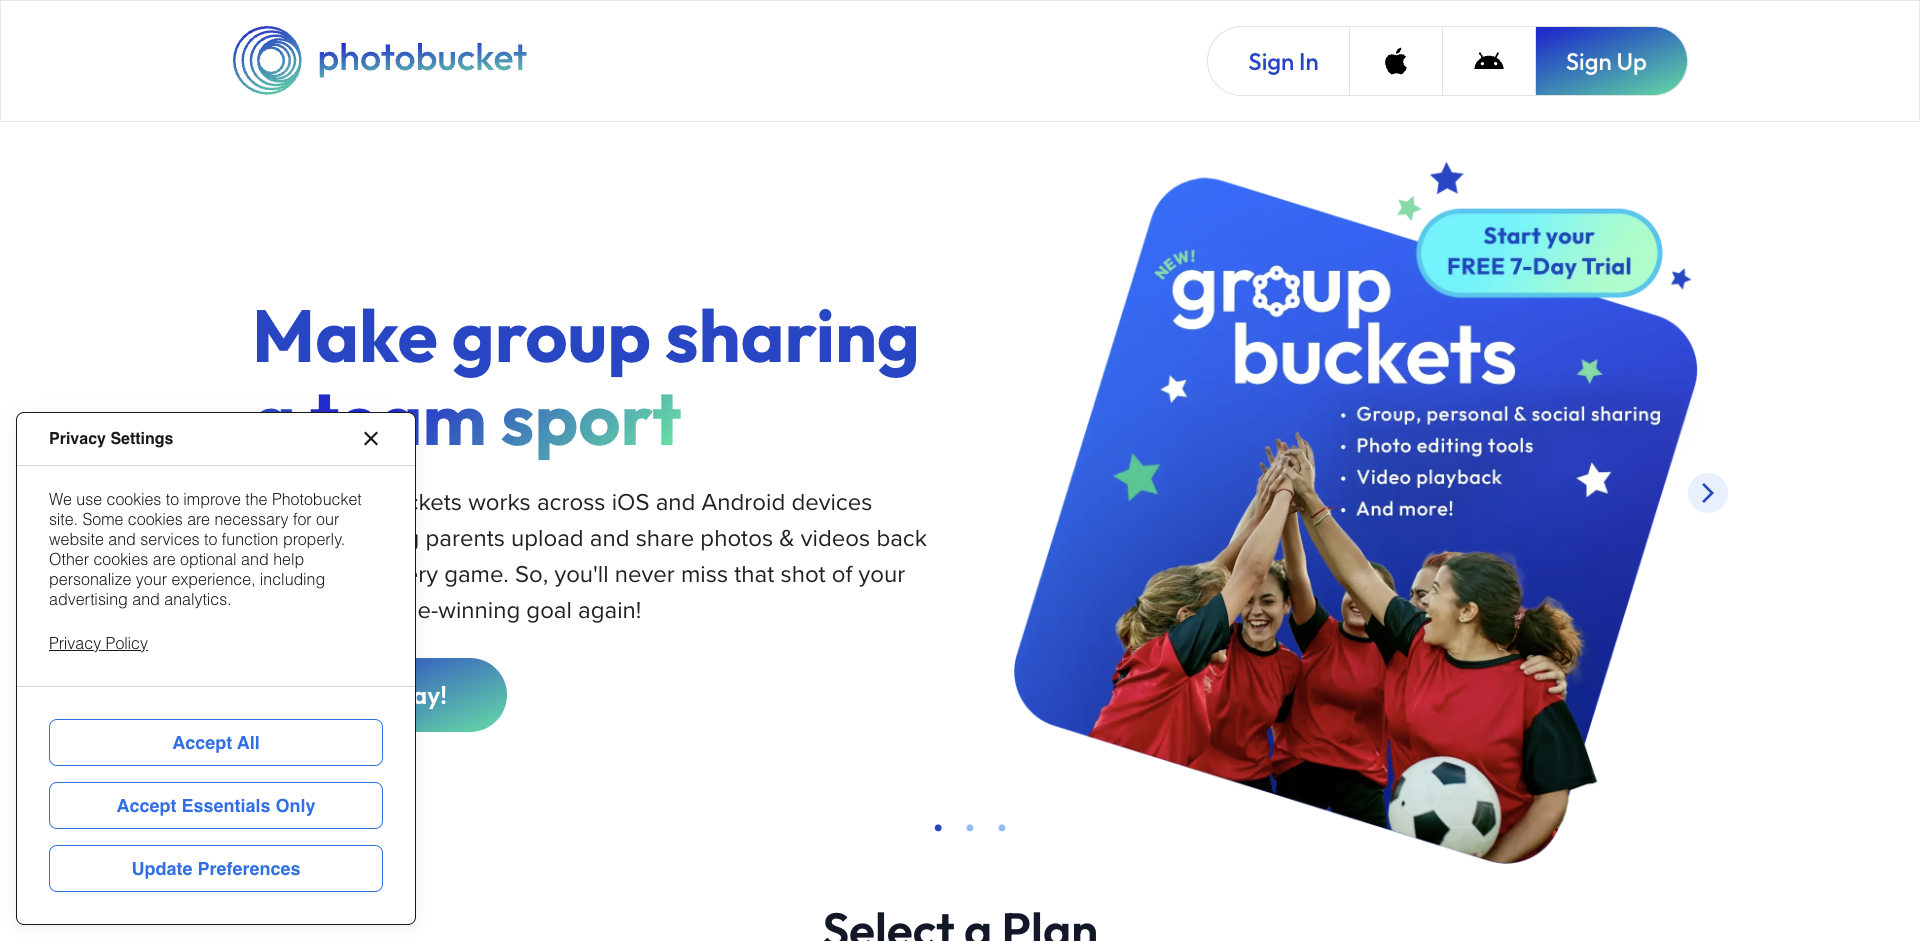button: (252, 658, 507, 731), (1534, 26, 1689, 96), (1207, 26, 1349, 96), (1788, 658, 1920, 731), (1349, 26, 1442, 96), (1442, 26, 1534, 96), (192, 473, 231, 513), (1689, 473, 1728, 513), (932, 805, 944, 850), (964, 805, 976, 850), (996, 805, 1008, 850)
link: (231, 26, 531, 96)
